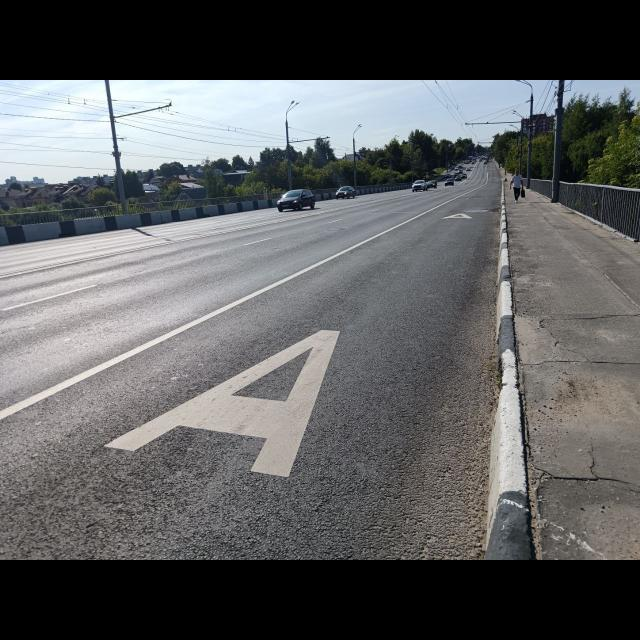road: (0, 164, 501, 560)
